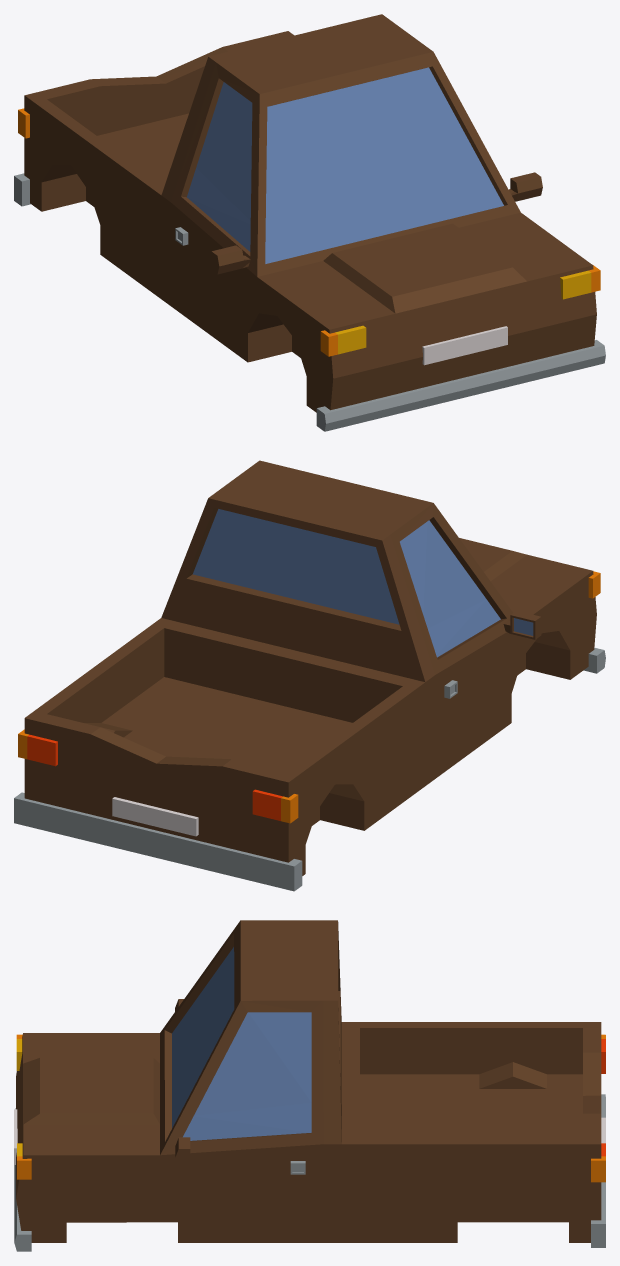
Rendered from Car_02.fbx.
The picture shows the model from 3 angles, top to bottom: view 1: azimuth 30°, elevation 25°; view 2: azimuth 150°, elevation 25°; view 3: azimuth 270°, elevation 25°; orthographic projection. The views are drawn at different scales.
Visible parts, largest first — view 1: Car_02; view 2: Car_02; view 3: Car_02.
Boxes of the visible parts, x1,y1,x2,y2 form: Car_02: [14, 14, 605, 431]; Car_02: [14, 460, 605, 891]; Car_02: [14, 920, 605, 1251].
Size of the model in its own units: 4.02 by 2.83 by 6.72.
